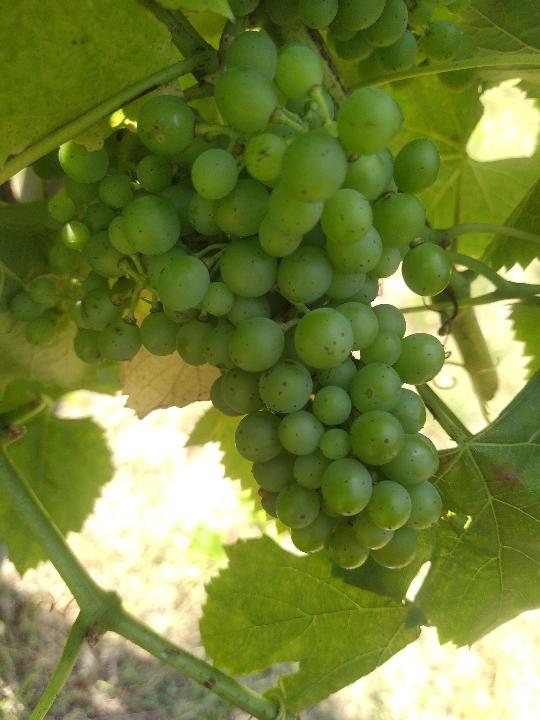grape: (11, 28, 458, 577)
